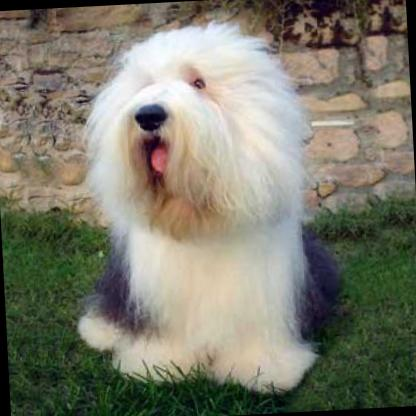Old_English_sheepdog: (58, 16, 344, 402)
